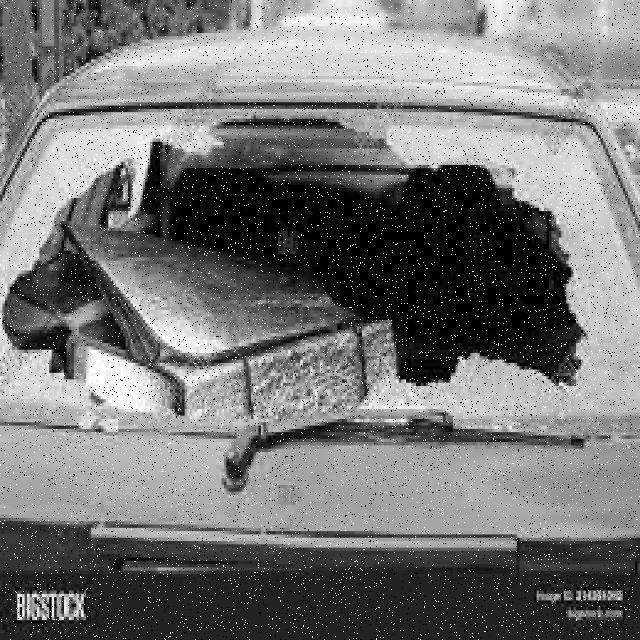Rear-windscreen-Damage: (3, 82, 638, 484)
